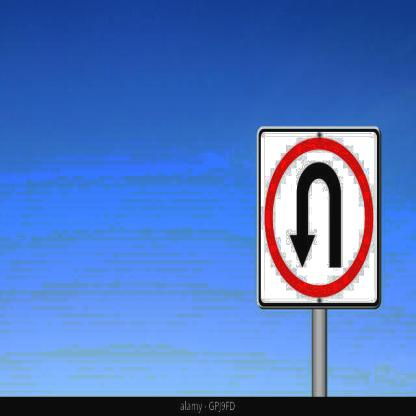U-turn: (258, 123, 378, 302)
